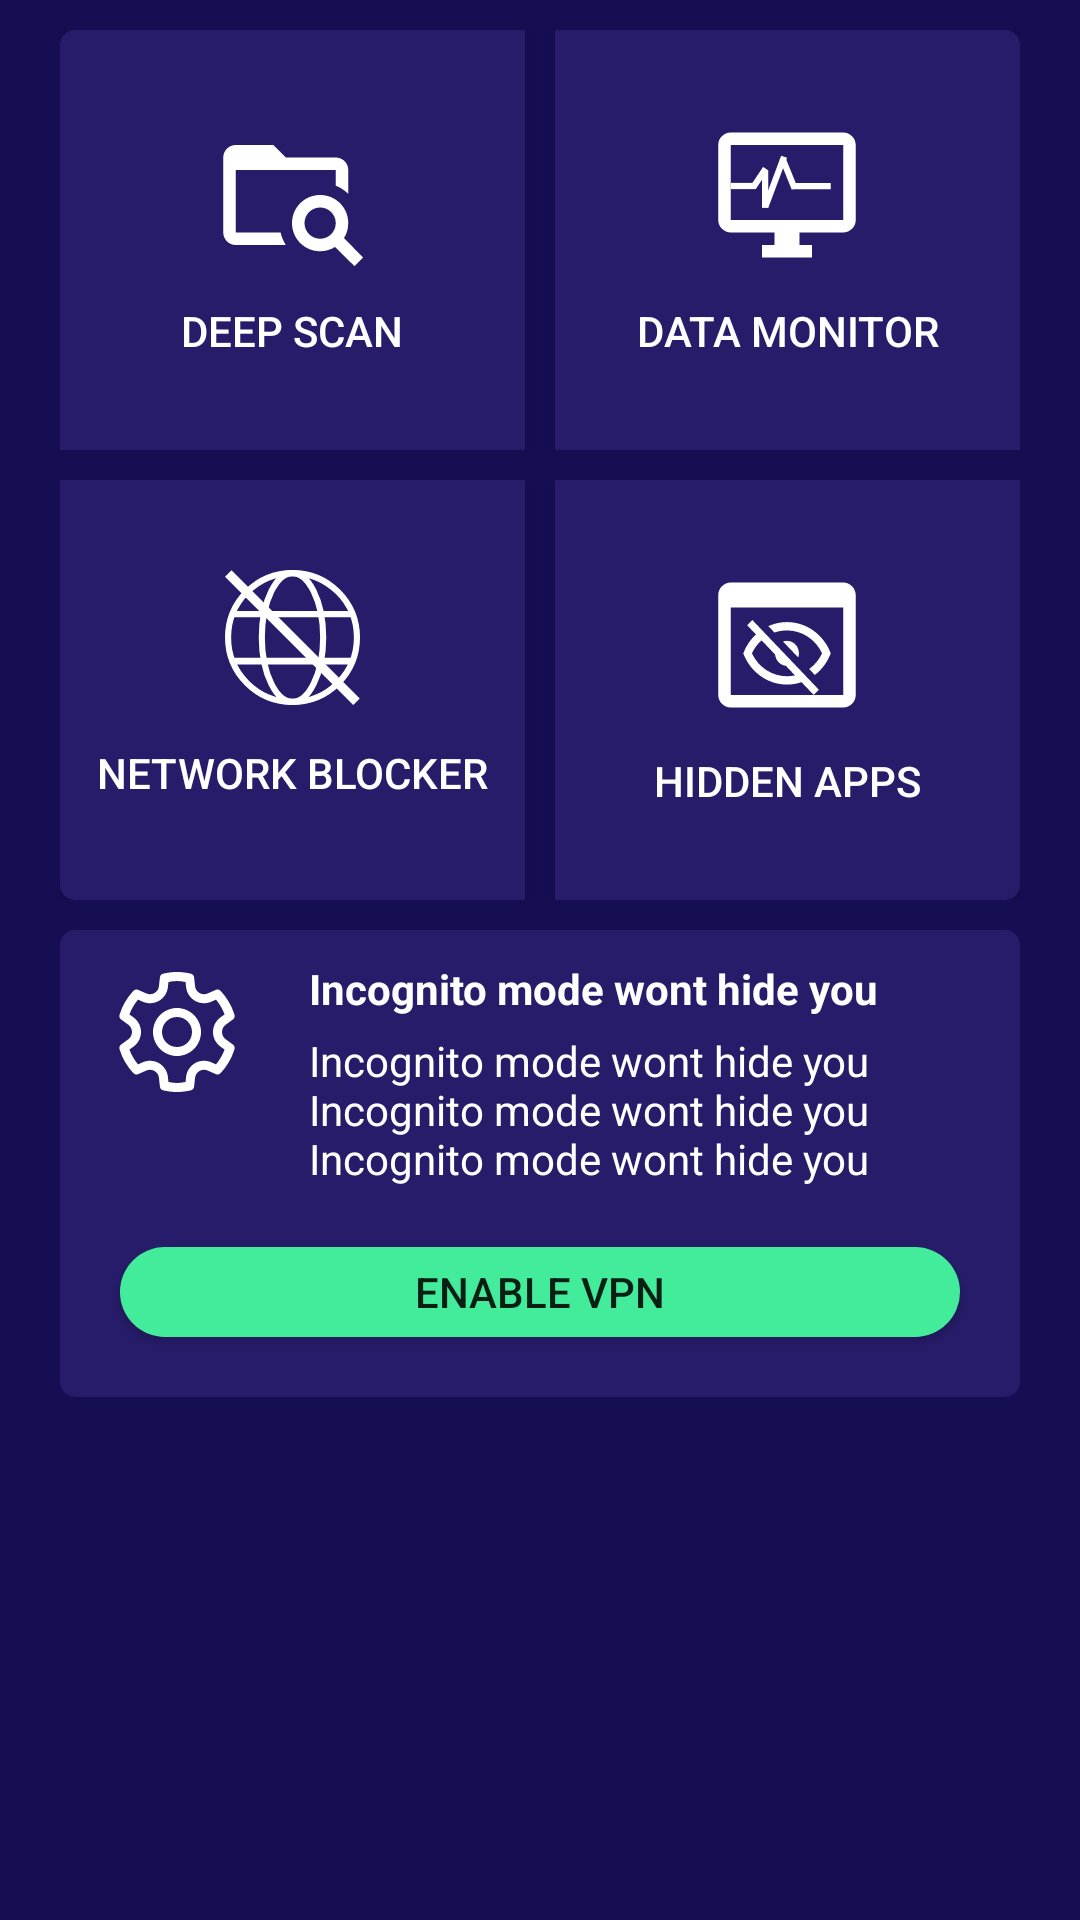

Screen size 1080 x 1920. Icon name, then its box in pixels as (x1, y1, x2, y2):
settings: (119, 972, 235, 1092)
